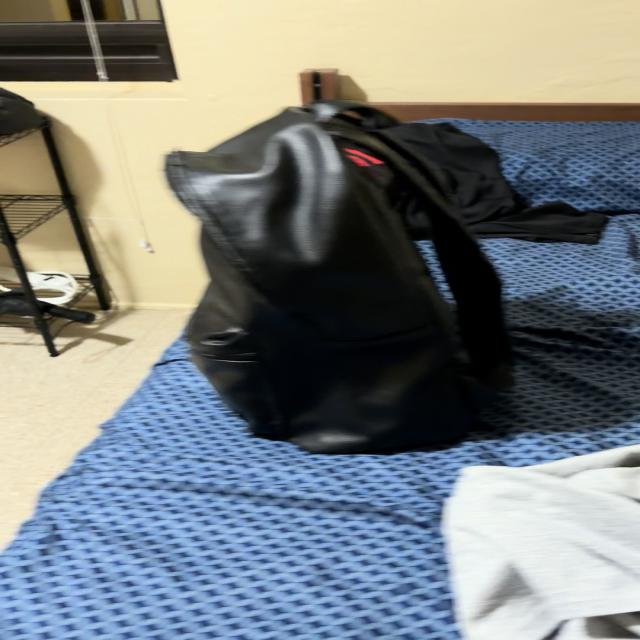backpack: (166, 101, 510, 453)
